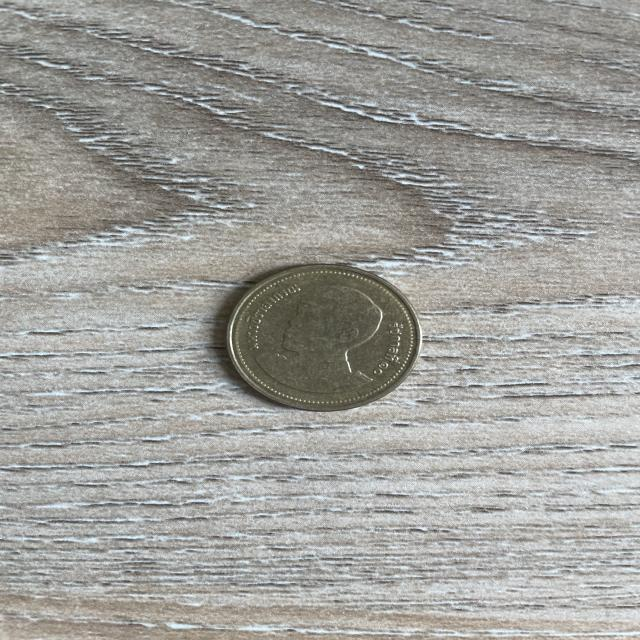2 Bath: (213, 257, 430, 420)
